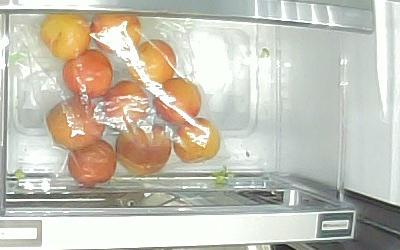prune_vinyl: (47, 96, 105, 151), (115, 121, 172, 176), (66, 138, 117, 187), (62, 49, 114, 97), (40, 13, 90, 61), (104, 80, 148, 132), (154, 78, 201, 125), (129, 40, 176, 86), (91, 13, 142, 55), (175, 118, 221, 164)
